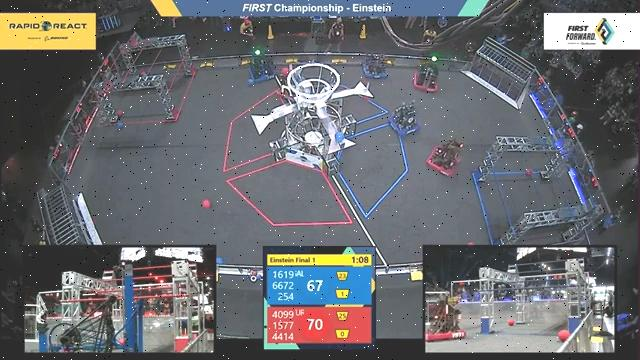Robot: (425, 136, 465, 180), (387, 97, 423, 140), (414, 49, 444, 95), (244, 44, 277, 84), (358, 48, 391, 82)
